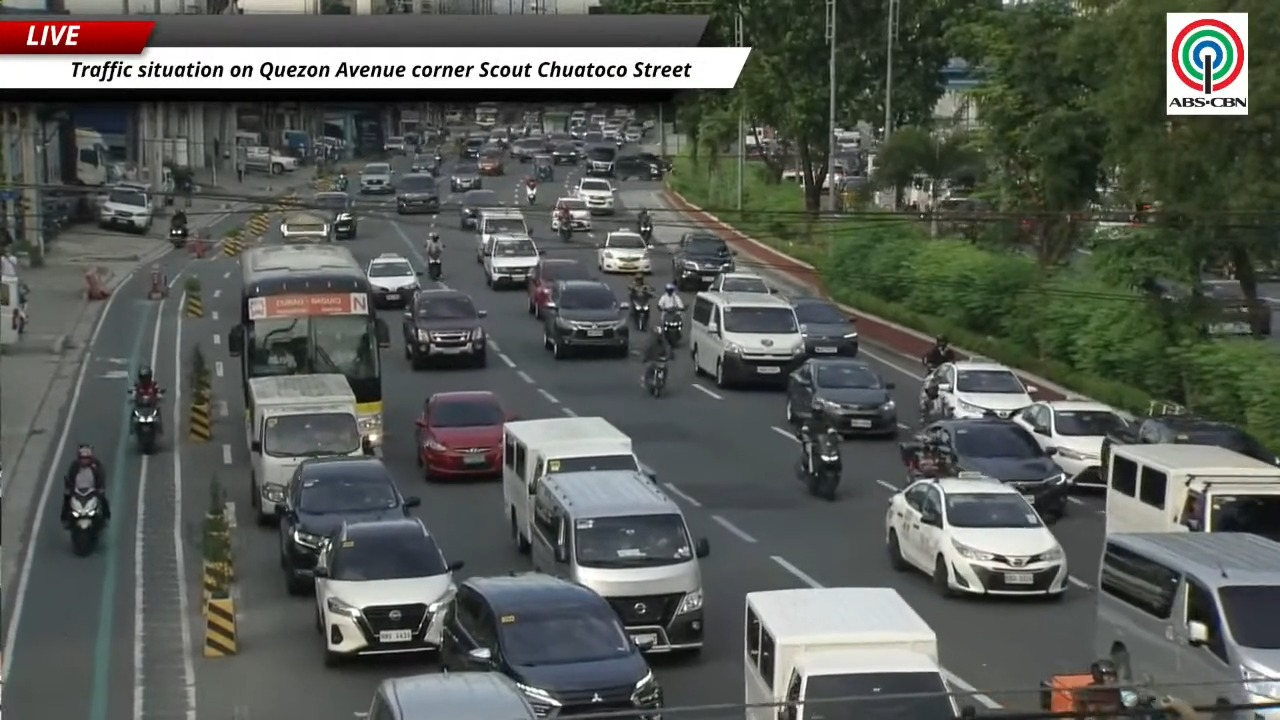bus: (228, 243, 389, 447), (1102, 444, 1279, 540), (475, 103, 499, 128)
car: (440, 573, 662, 719), (314, 517, 462, 665), (885, 478, 1068, 595), (275, 457, 420, 594), (901, 418, 1069, 521), (1101, 411, 1279, 467), (1012, 401, 1127, 487), (786, 357, 897, 436), (416, 391, 513, 480), (542, 280, 629, 359), (920, 359, 1036, 418), (402, 288, 486, 369), (790, 296, 858, 356), (527, 257, 590, 318), (672, 231, 734, 289), (483, 233, 540, 289), (366, 253, 421, 307), (99, 185, 153, 233), (597, 230, 651, 273), (312, 191, 358, 239), (396, 173, 439, 214), (279, 210, 331, 241), (459, 189, 499, 229), (574, 177, 615, 213), (708, 271, 773, 293), (551, 197, 591, 232), (614, 154, 664, 179), (583, 144, 617, 176), (359, 163, 394, 194), (450, 162, 482, 192), (510, 137, 545, 163), (636, 152, 671, 174), (550, 141, 579, 164), (410, 154, 440, 176), (478, 150, 504, 175), (550, 141, 578, 164), (461, 137, 486, 159), (580, 126, 607, 146), (488, 128, 511, 149), (383, 137, 407, 153), (623, 125, 643, 143)
motorcycle: (797, 431, 842, 500), (68, 488, 104, 556), (131, 393, 160, 454), (645, 361, 667, 397), (662, 310, 682, 347), (632, 298, 649, 330), (168, 225, 188, 248), (638, 219, 652, 243), (427, 258, 441, 281), (558, 220, 572, 241), (337, 175, 348, 191), (526, 188, 536, 205)
truck: (743, 588, 959, 719), (502, 417, 655, 552), (246, 373, 372, 523), (58, 124, 118, 186), (240, 146, 298, 174), (162, 136, 190, 167), (542, 111, 569, 135)
